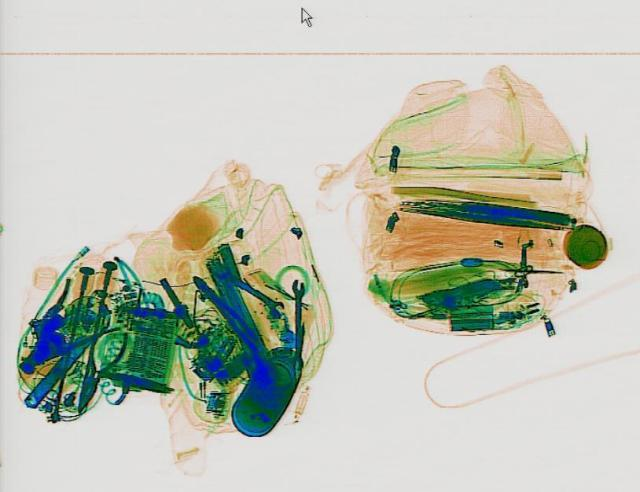Pliers: (61, 324, 131, 415), (183, 271, 257, 341)
Wrench: (206, 260, 290, 319), (288, 277, 304, 369)
